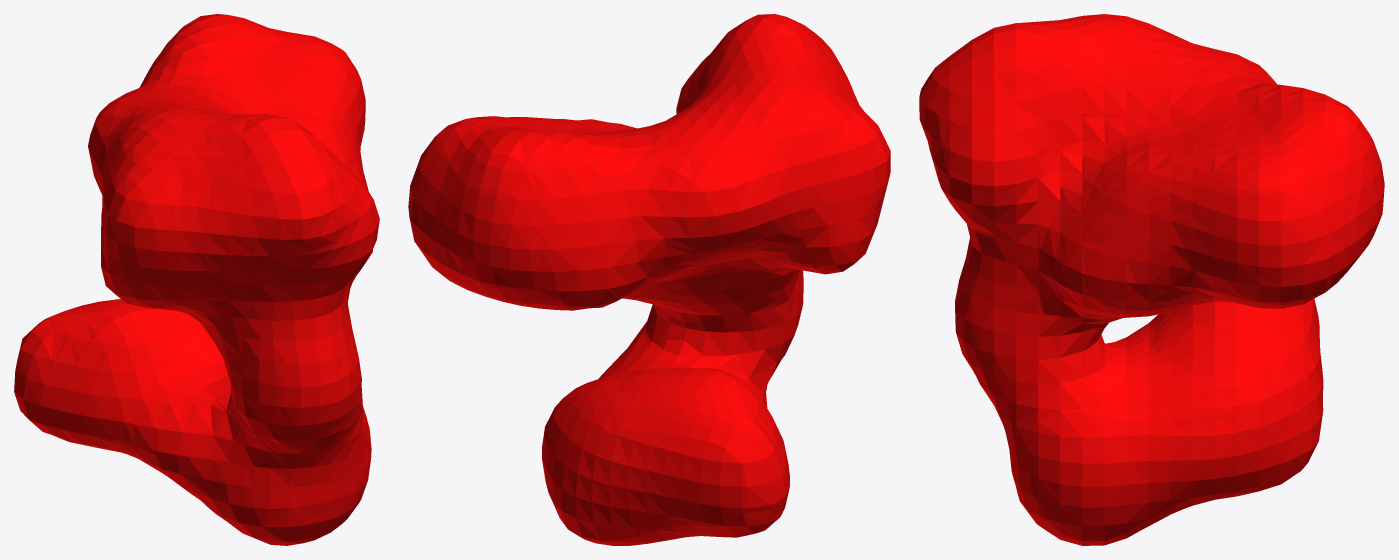
File: yaeP_coarse.dae
The picture shows the model from 3 angles, left to right: view 1: azimuth 30°, elevation 25°; view 2: azimuth 150°, elevation 25°; view 3: azimuth 270°, elevation 25°; orthographic projection. The views are drawn at different scales.
Parts seen in each view (by area): view 1: yaeP; view 2: yaeP; view 3: yaeP.
Part boxes in pixels (left/top/right/bottom): yaeP: left=14, top=14, right=379, bottom=545; yaeP: left=408, top=14, right=890, bottom=545; yaeP: left=919, top=14, right=1384, bottom=545.
Size of the model in its own units: 32.18 by 41.1 by 36.15.
